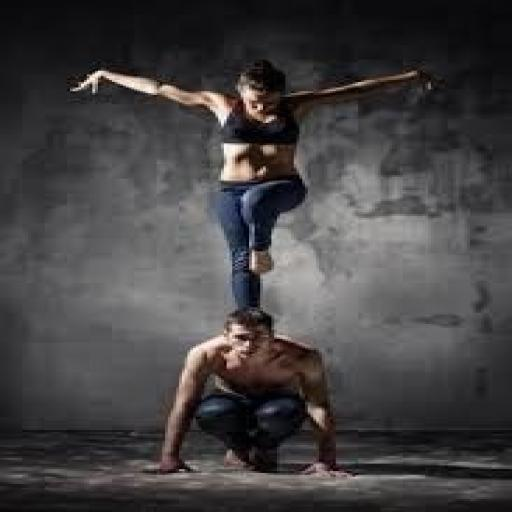dancing: (67, 58, 448, 313), (140, 306, 358, 480)
